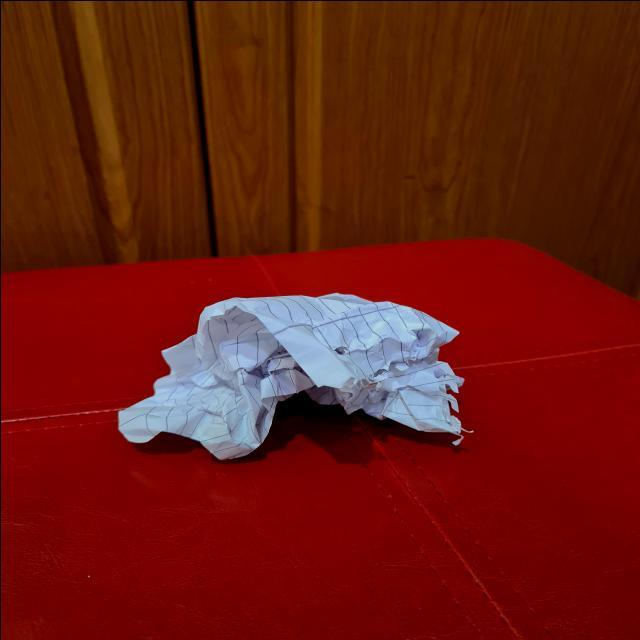Paper: (106, 287, 470, 474)
